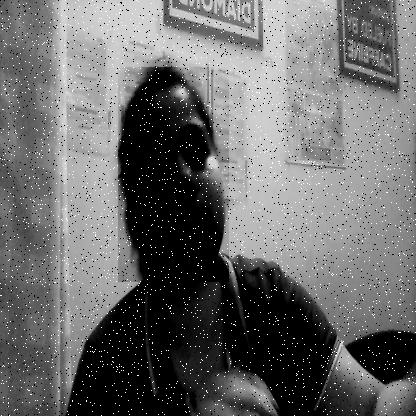Normal: (118, 67, 229, 282)
